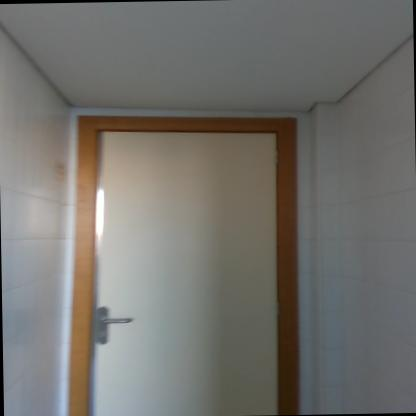closed: (46, 84, 327, 416)
